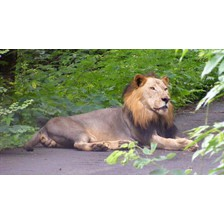lion: (23, 74, 199, 152)
